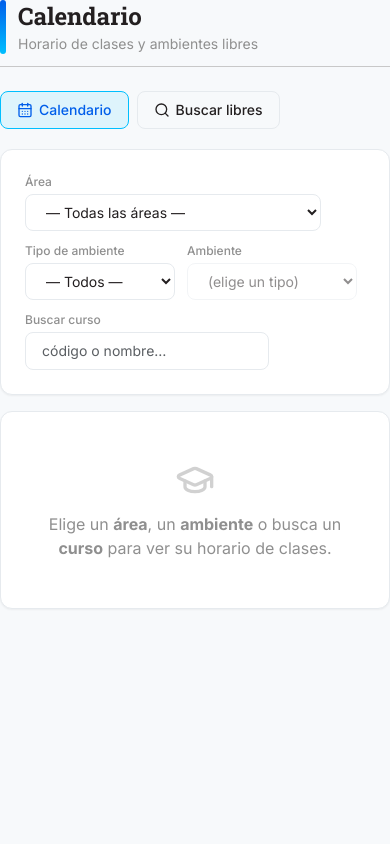
it: AulasPage › al elegir una carrera muestra la grilla con la clase
Select "Departamento de Computer Science" in the 1st dropdown. click: (173, 212)
box: x1=25 y1=194 x2=321 y2=231
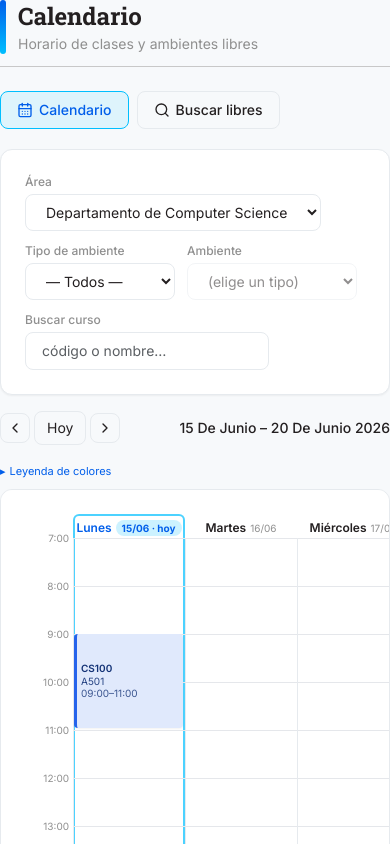
Check: the text "CS100" is shown, box x1=81 y1=662 x2=112 y2=674
Check: the text "A501" is shown, box x1=81 y1=675 x2=104 y2=687
